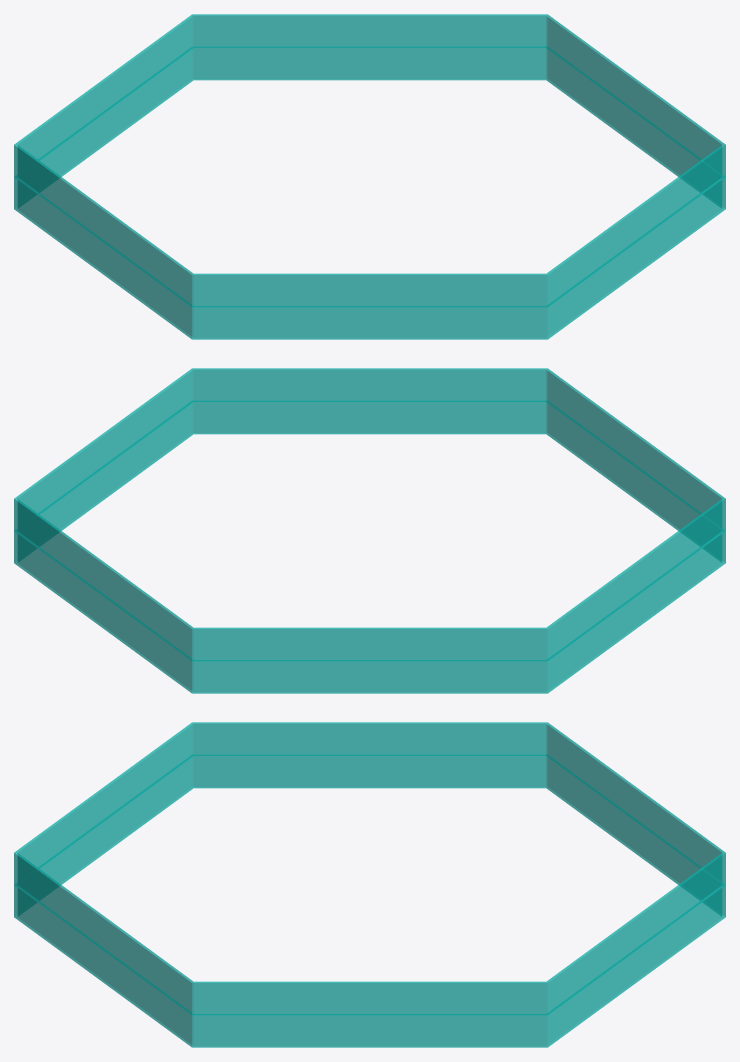
File: blue_hex_solid.fbx
3 views of the same model, one above another, from view 1: azimuth 30°, elevation 25°; view 2: azimuth 150°, elevation 25°; view 3: azimuth 270°, elevation 25° (orthographic).
Visible parts, largest first — view 1: Cylinder.001, Cylinder; view 2: Cylinder.001, Cylinder; view 3: Cylinder.001, Cylinder.
Part boxes in pixels (x1,y1,x2,y2): Cylinder.001: [14, 14, 725, 307]; Cylinder: [14, 47, 725, 339]; Cylinder.001: [14, 368, 725, 661]; Cylinder: [14, 401, 725, 693]; Cylinder.001: [14, 722, 725, 1015]; Cylinder: [14, 755, 725, 1047].
Bounding box in the file's own units: 173 × 20 × 200.
